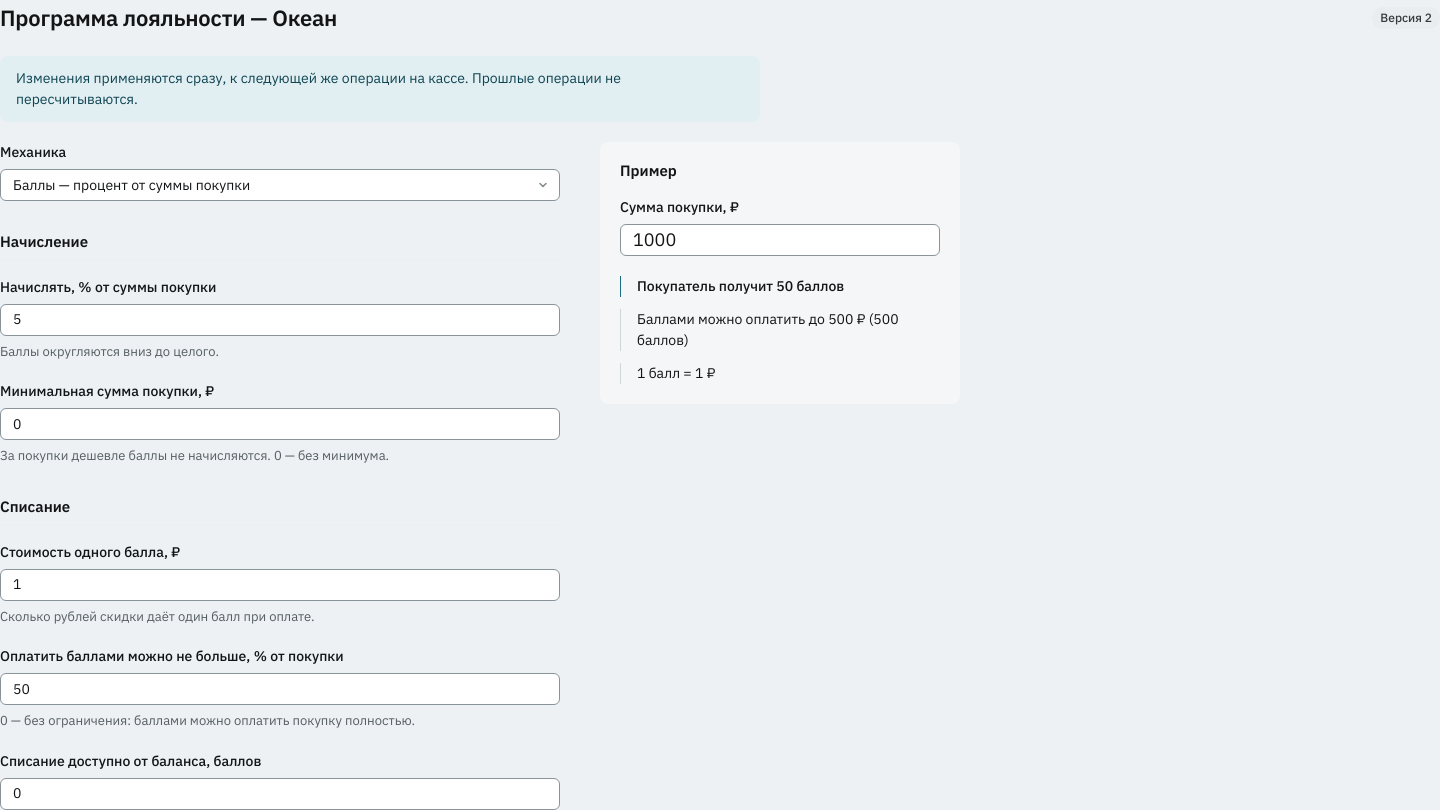
Test: LoyaltyConfigPage › warns that saves apply immediately and enables Save only after a change
Expected: the text "Изменения применяются сразу" is shown, [16,69,621,108]
Replace the text in the field labelled "Начислять, % от суммы покупки" with "7" at [280, 320], box [0,304,560,336]
(page scrolled)
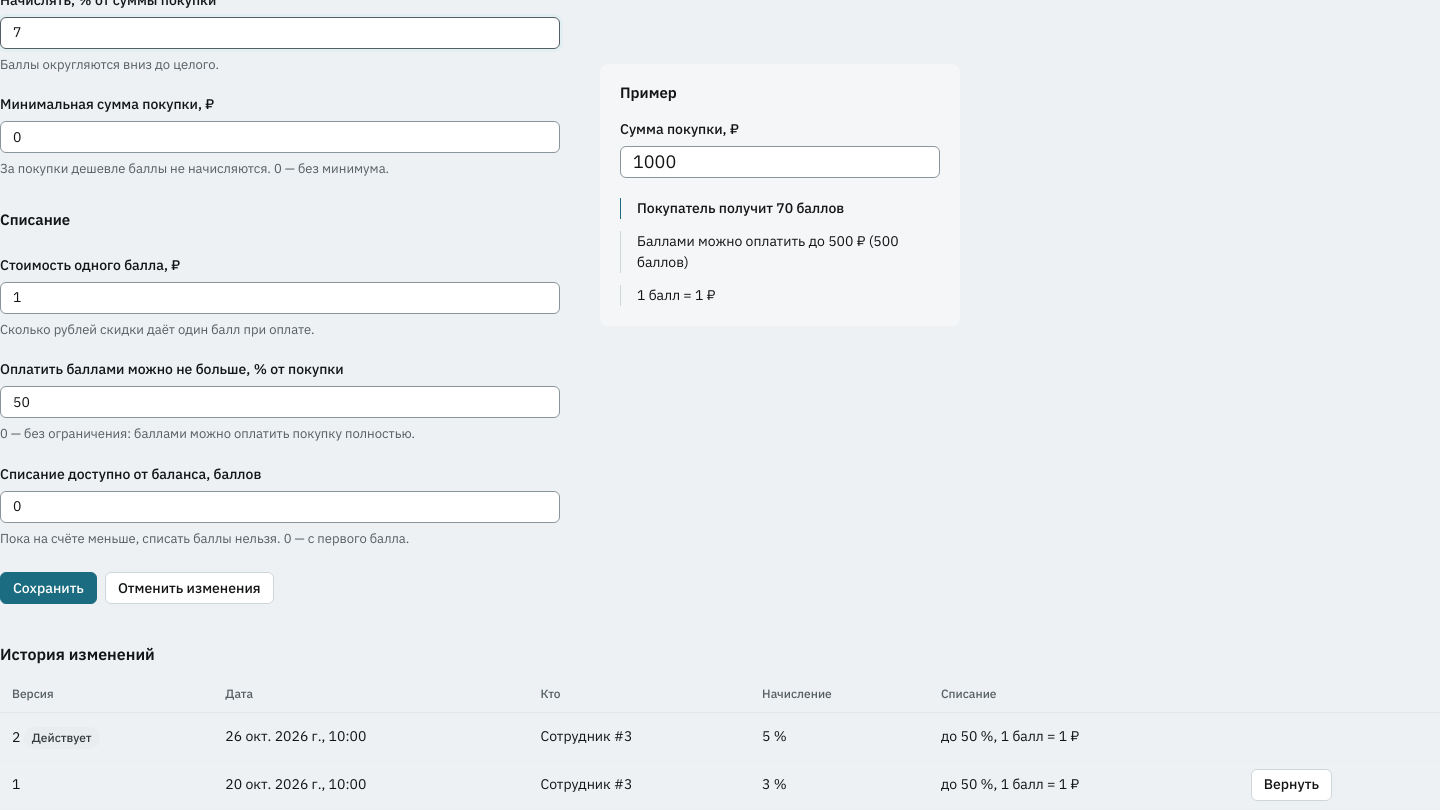
Now the button "Сохранить" is enabled, box [0,572,97,604]
Click the button "Отменить изменения" at [189, 588], box [105,572,274,604]
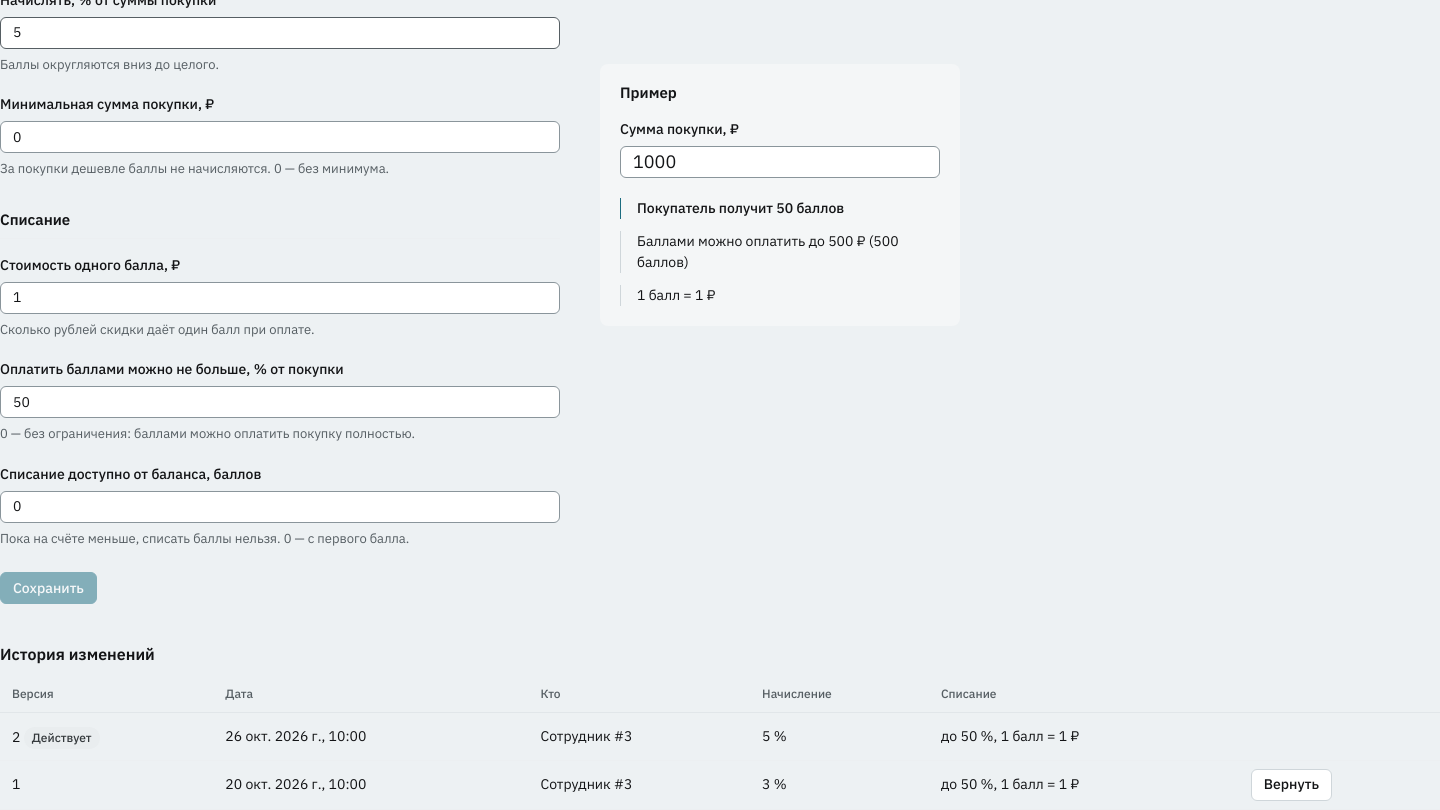
Now the field labelled "Начислять, % от суммы покупки" holds "5", box [0,17,560,49]
